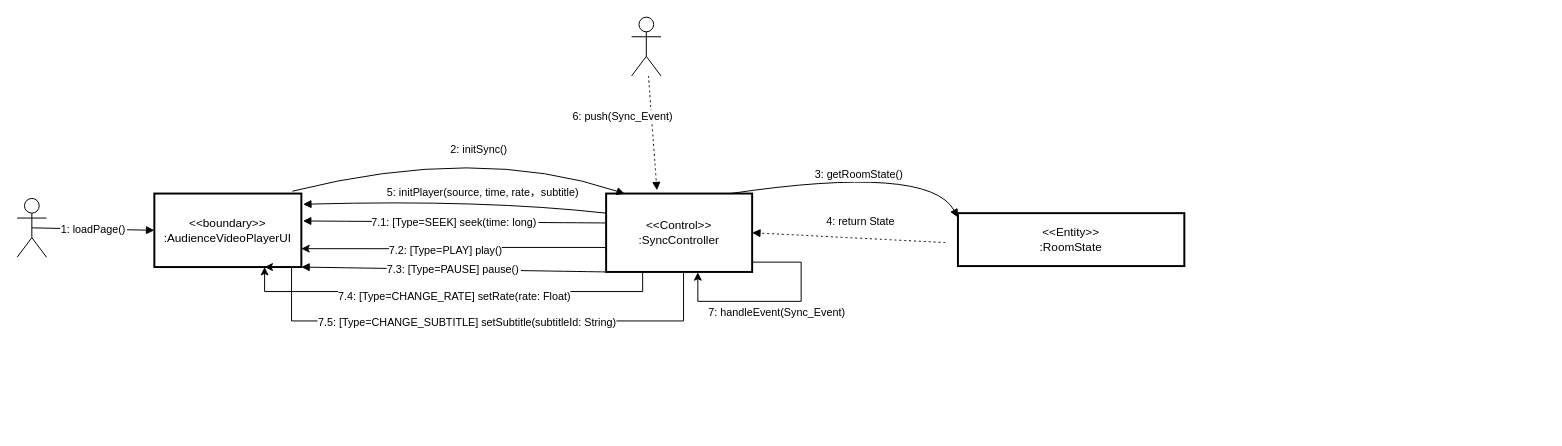
Image size: 1562x446. Some labels were removed from this diagram. Each missing label, with the box of its shape:
同步发起者: (631, 16, 661, 76)
观众: (16, 197, 47, 257)
